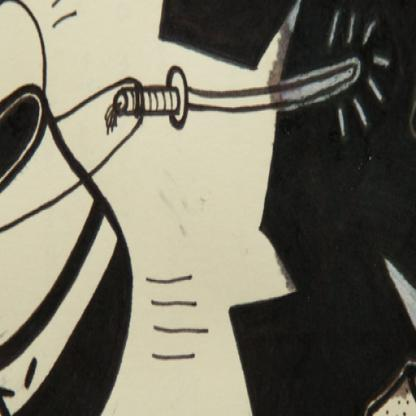knife: (111, 60, 361, 133)
